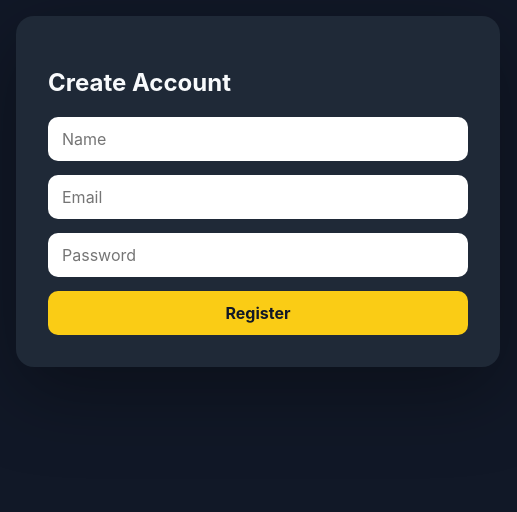
Scenario: Auth Flow - Register, Login, and Logout › TC3 - Login nudge link opens login page and prefills registered email
The width and height of the screenshot is (517, 512).
Type "Alice" into the field with test id "name-input" at (258, 139), box [48,117,468,161]
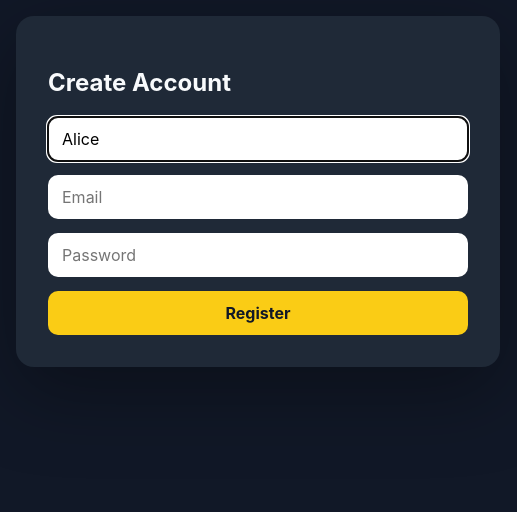
Type "alice@test.com" into the field with test id "email-input" at (258, 197), box [48,175,468,219]
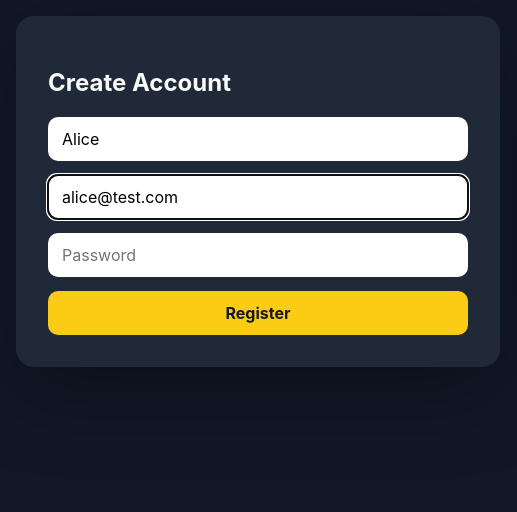
Type "secret123" into the password field with test id "password-input" at (258, 255), box [48,233,468,277]
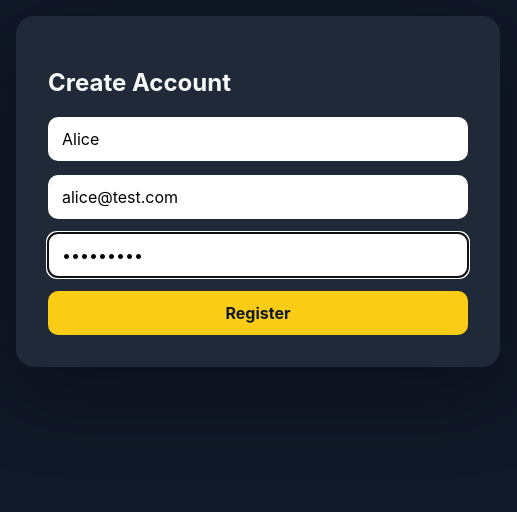
Click the button with test id "register-btn" at (258, 313), box [48,291,468,335]
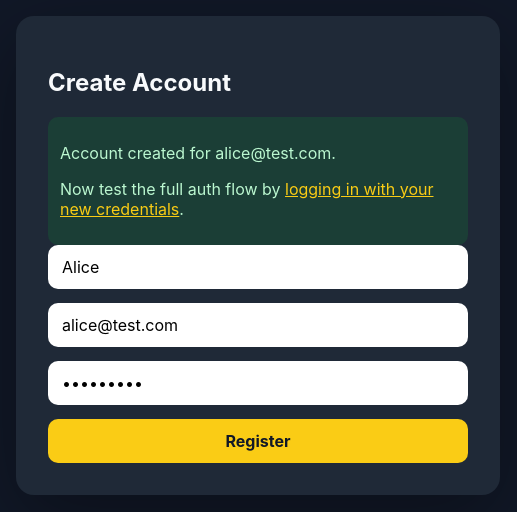
Click the link with test id "login-nudge-link" at (359, 189), box [60,179,434,219]
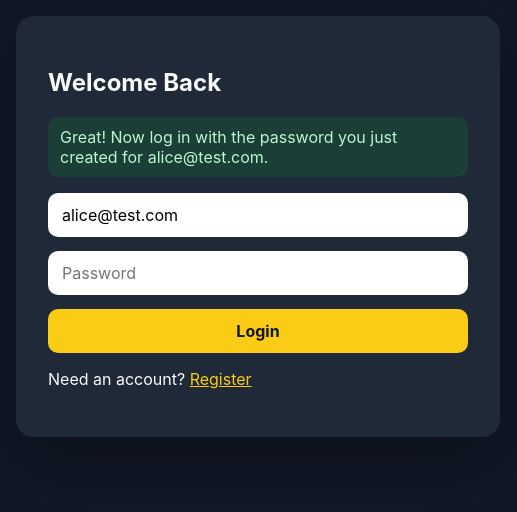
Check: the field with test id "email-input" holds "alice@test.com", box [48,193,468,237]
Check: the text with test id "login-nudge-message" shows "Now log in", box [60,127,397,167]
